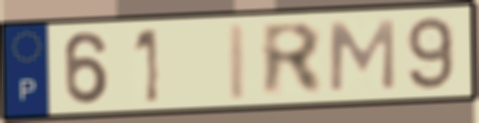1: (131, 26, 162, 105)
6: (62, 30, 112, 107)
9: (401, 15, 457, 92)
I: (225, 21, 250, 103)
M: (326, 17, 398, 95)
R: (258, 21, 328, 100)
